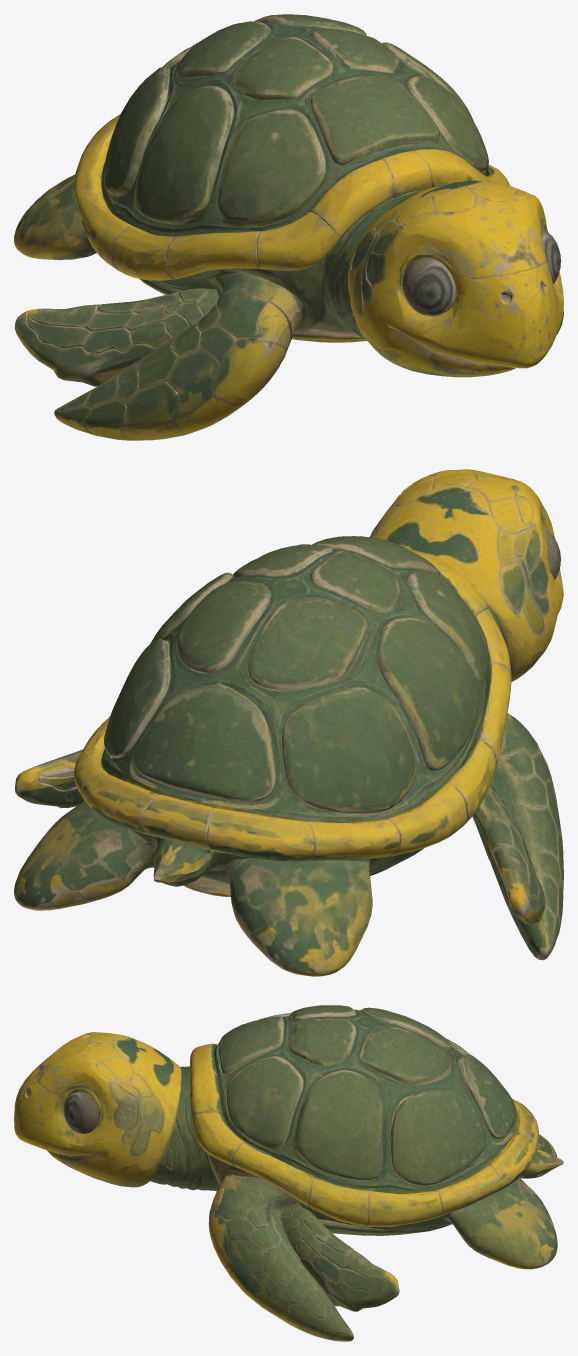
Rendered from tartaruga.glb.
3 renders of one model, top to bottom at view 1: azimuth 30°, elevation 25°; view 2: azimuth 150°, elevation 25°; view 3: azimuth 270°, elevation 25°, orthographic. The views are drawn at different scales.
Parts seen in each view (by area): view 1: Mesh_0; view 2: Mesh_0; view 3: Mesh_0.
Boxes of the visible parts, bbox=[...] form: Mesh_0: bbox=[14, 14, 563, 440]; Mesh_0: bbox=[14, 469, 563, 976]; Mesh_0: bbox=[14, 1005, 563, 1341].
Size of the model in its own units: 1.25 by 0.7891 by 1.6.
Materials: 1 (1 with a texture image).
